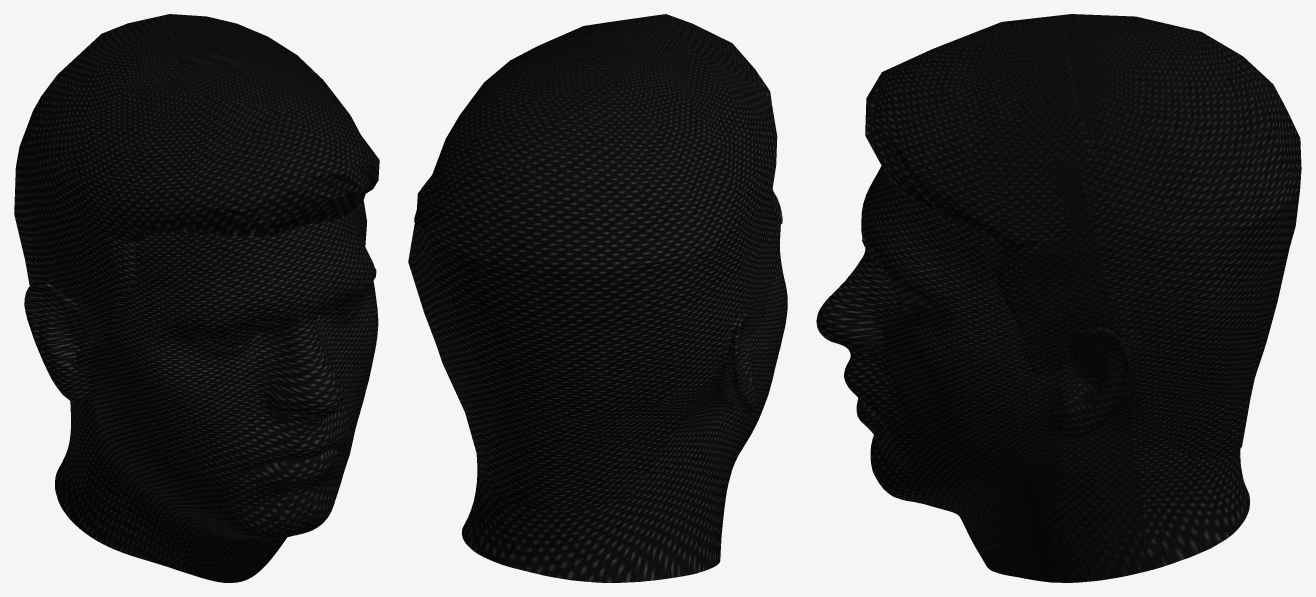
Rendered from Head.glb.
3 views of the same model, side by side, from view 1: azimuth 30°, elevation 25°; view 2: azimuth 150°, elevation 25°; view 3: azimuth 270°, elevation 25° (orthographic). The views are drawn at different scales.
Parts seen in each view (by area): view 1: Head; view 2: Head; view 3: Head.
Boxes of the visible parts, x1,y1,x2,y2 form: Head: (14,14,379,582); Head: (408,14,787,582); Head: (816,14,1301,582).
Size of the model in its own units: 0.1514 by 0.2412 by 0.1959.
Materials: 1 (1 with a texture image).
